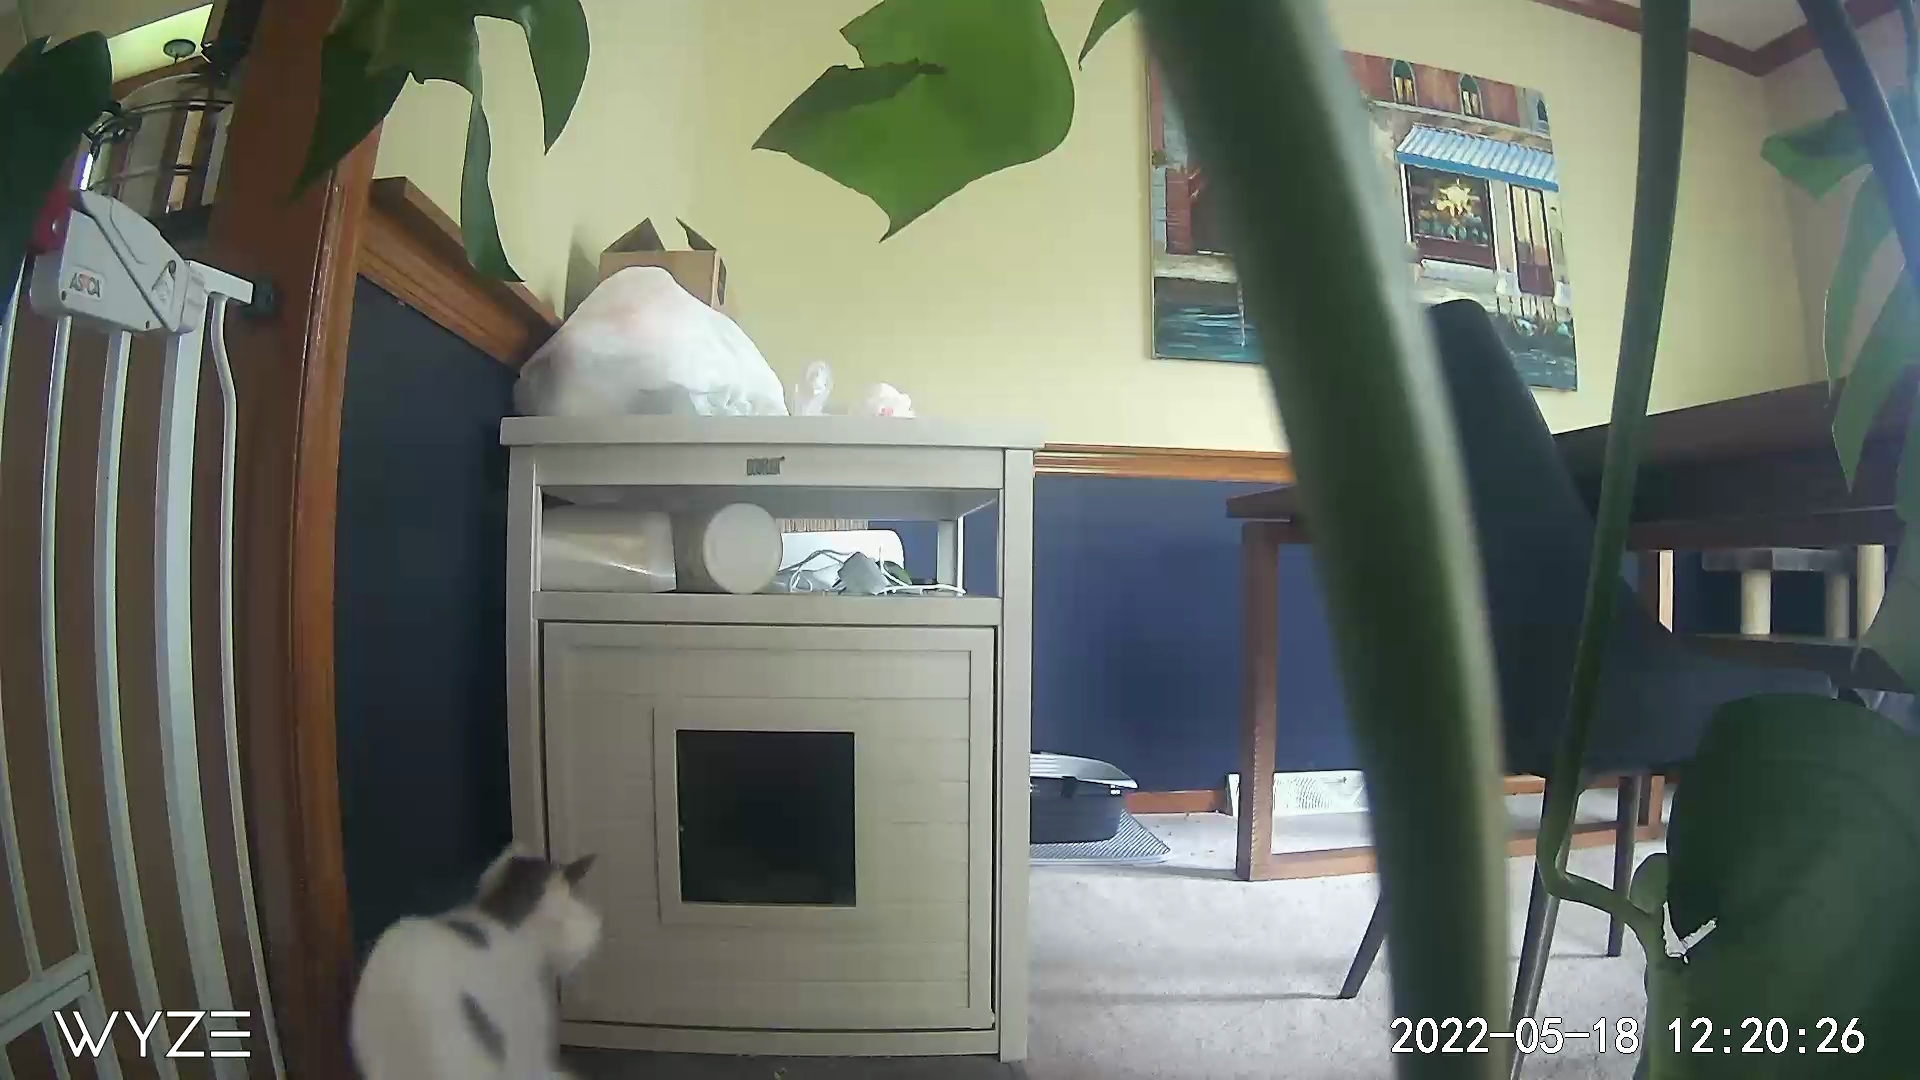maoxin: (351, 835, 600, 1077)
